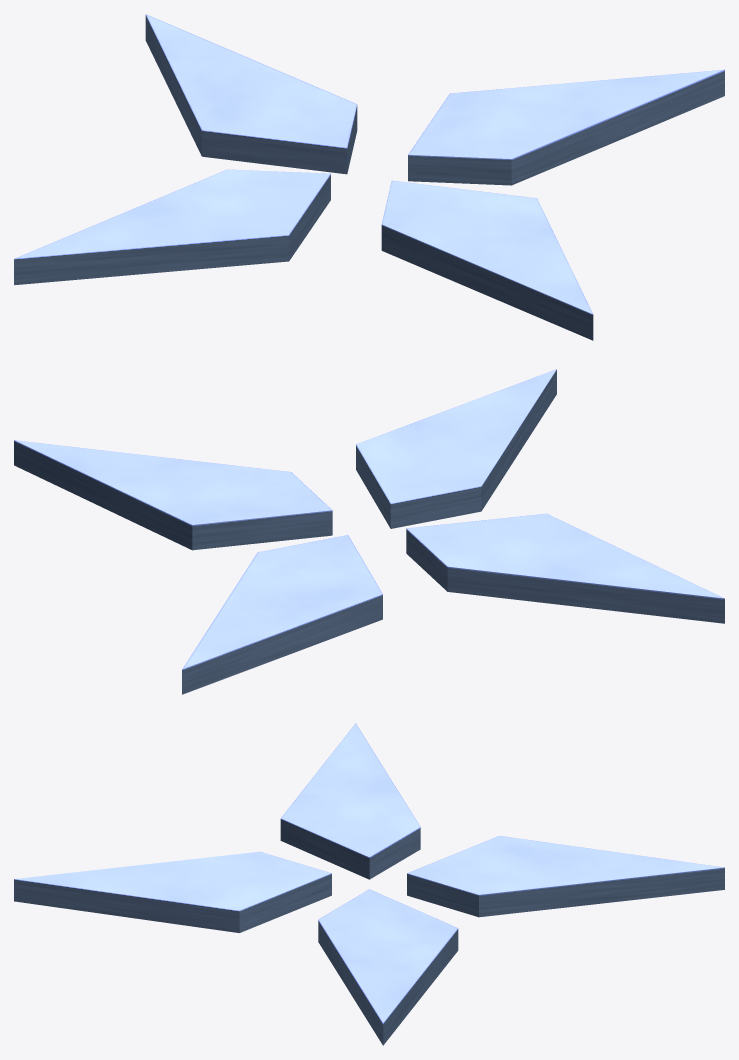
Rendered from shadow_dart.glb.
3 views of the same model, one above another, from view 1: azimuth 30°, elevation 25°; view 2: azimuth 150°, elevation 25°; view 3: azimuth 270°, elevation 25° (orthographic). The views are drawn at different scales.
Parts seen in each view (by area): view 1: shadow_dart_Mesh; view 2: shadow_dart_Mesh; view 3: shadow_dart_Mesh.
Boxes of the visible parts, x1,y1,x2,y2 form: shadow_dart_Mesh: (14, 14, 724, 340); shadow_dart_Mesh: (14, 369, 724, 694); shadow_dart_Mesh: (14, 723, 724, 1045).
Size of the model in its own units: 1.04 by 0.036 by 1.04.
Materials: 1 (1 with a texture image).
